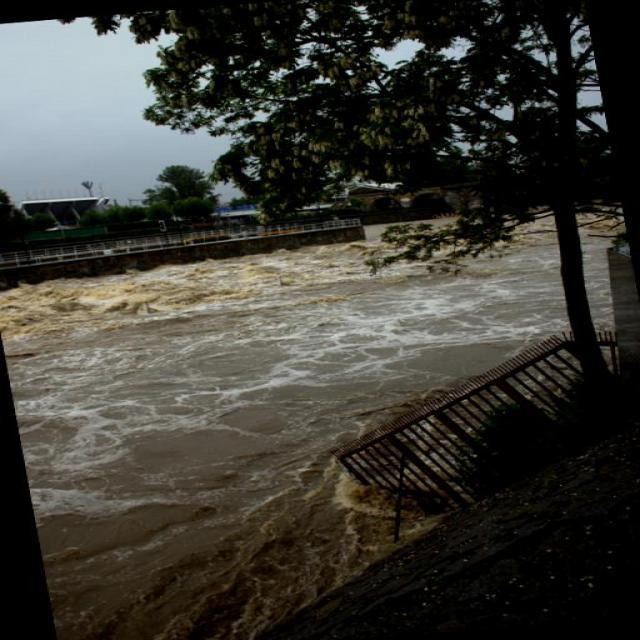flood: (0, 204, 614, 639)
